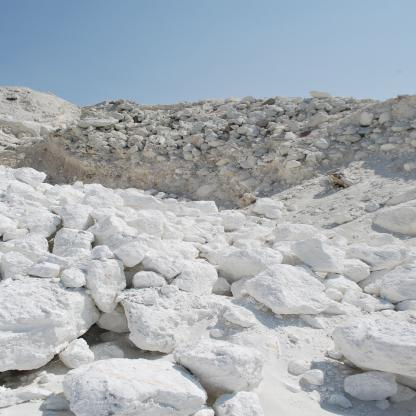Sedimentary_Chalk: (53, 349, 213, 416), (1, 279, 100, 378), (321, 309, 415, 391), (243, 262, 346, 312), (181, 337, 274, 389), (168, 255, 220, 301), (95, 205, 145, 242), (373, 195, 416, 236), (1, 232, 44, 273), (53, 225, 97, 264)
